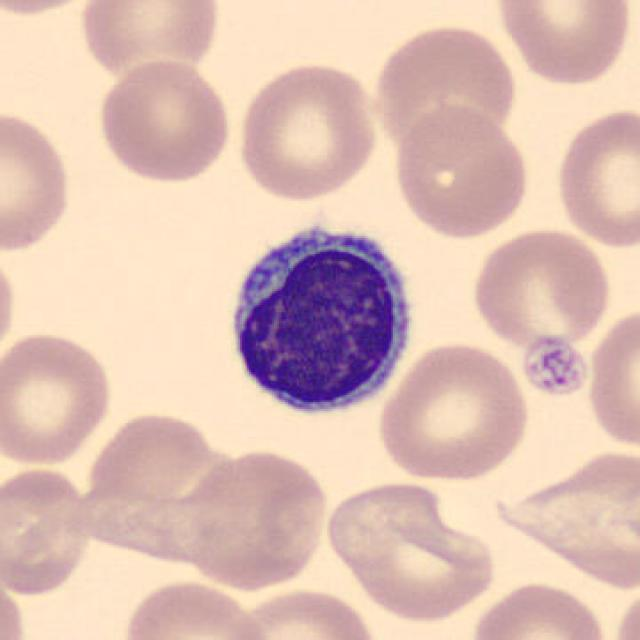Lymphocyte: (215, 211, 421, 425)
Platelets: (519, 333, 592, 400)
RBC: (320, 476, 501, 626), (487, 442, 638, 600), (176, 444, 332, 594), (375, 337, 533, 483), (233, 58, 382, 203), (370, 19, 521, 157), (389, 100, 534, 240), (468, 224, 614, 351), (93, 57, 235, 185), (0, 328, 117, 471), (84, 407, 220, 508), (551, 104, 640, 250), (0, 460, 94, 598), (492, 0, 636, 88), (75, 0, 224, 81), (0, 105, 76, 255), (119, 576, 272, 640), (465, 576, 613, 640), (220, 585, 382, 640), (583, 301, 640, 455), (0, 241, 21, 368), (0, 0, 112, 18), (0, 571, 28, 640), (609, 583, 638, 640)
